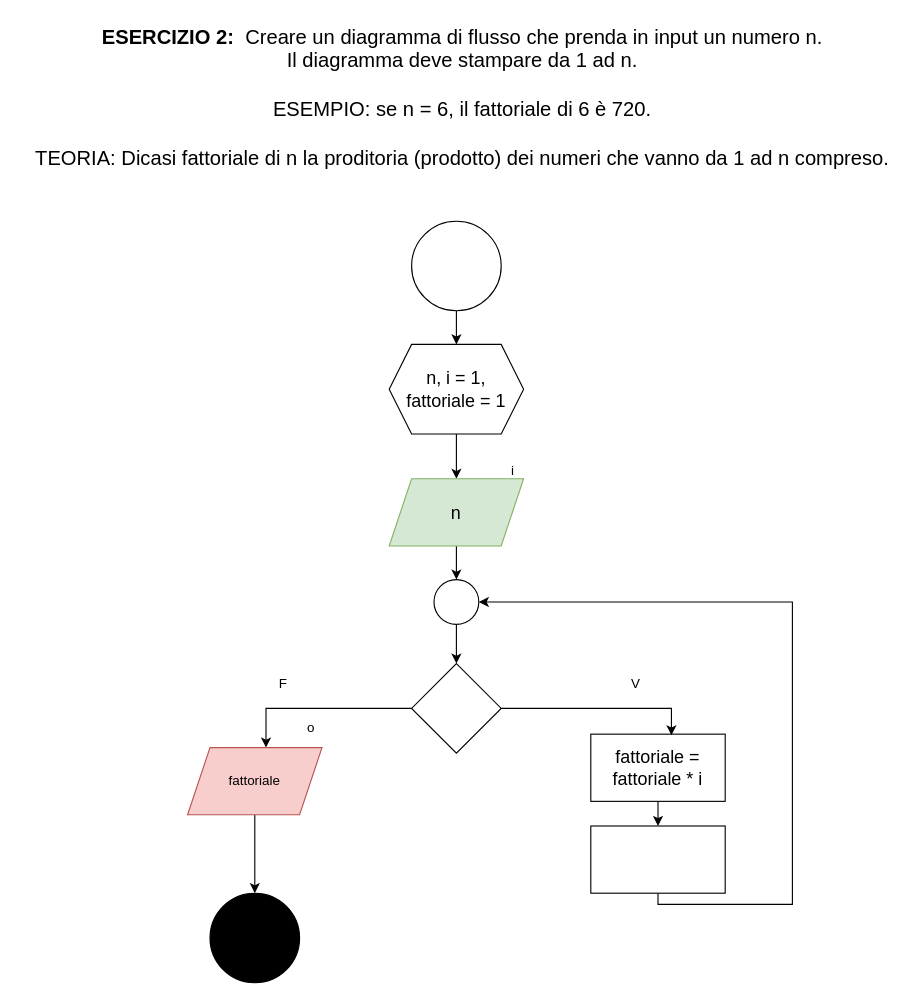
Some shapes in this 923 by 1002 pixel diagram are drawn without their labels. The centre of each missing label's shape, as x and y in pixels:
"i <= n" goes at (x=455, y=707).
"i = i + 1" goes at (x=657, y=859).
